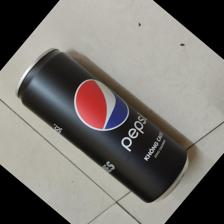Pepsi: (12, 48, 187, 206)
